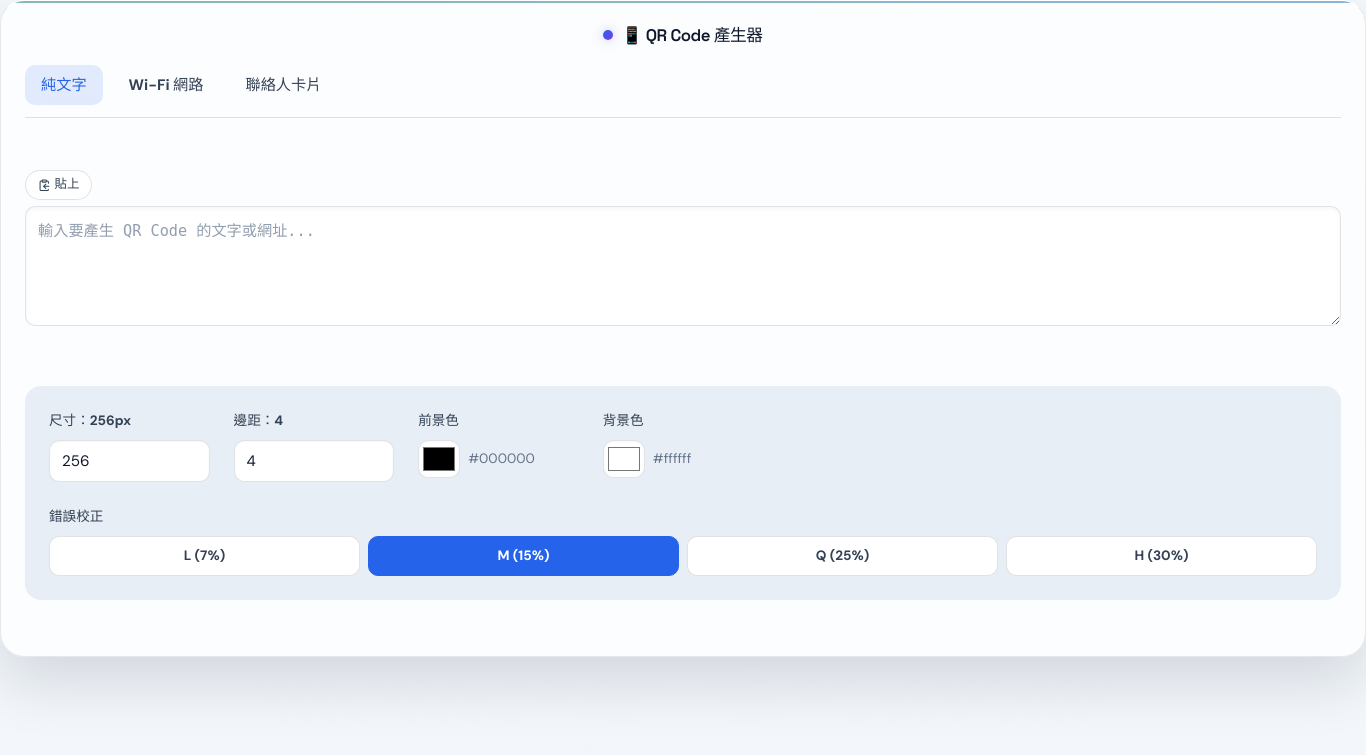
Test: QrCodeGenerator.vue › 輸入與 QR 產生 › 修改顏色應重新產生 QR Code
This screenshot has width=1366, height=755.
In the text box with placeholder "輸入要產生 QR Code 的文字或網址...": (683, 266) left=25, top=206, right=1341, bottom=326, type "color test"
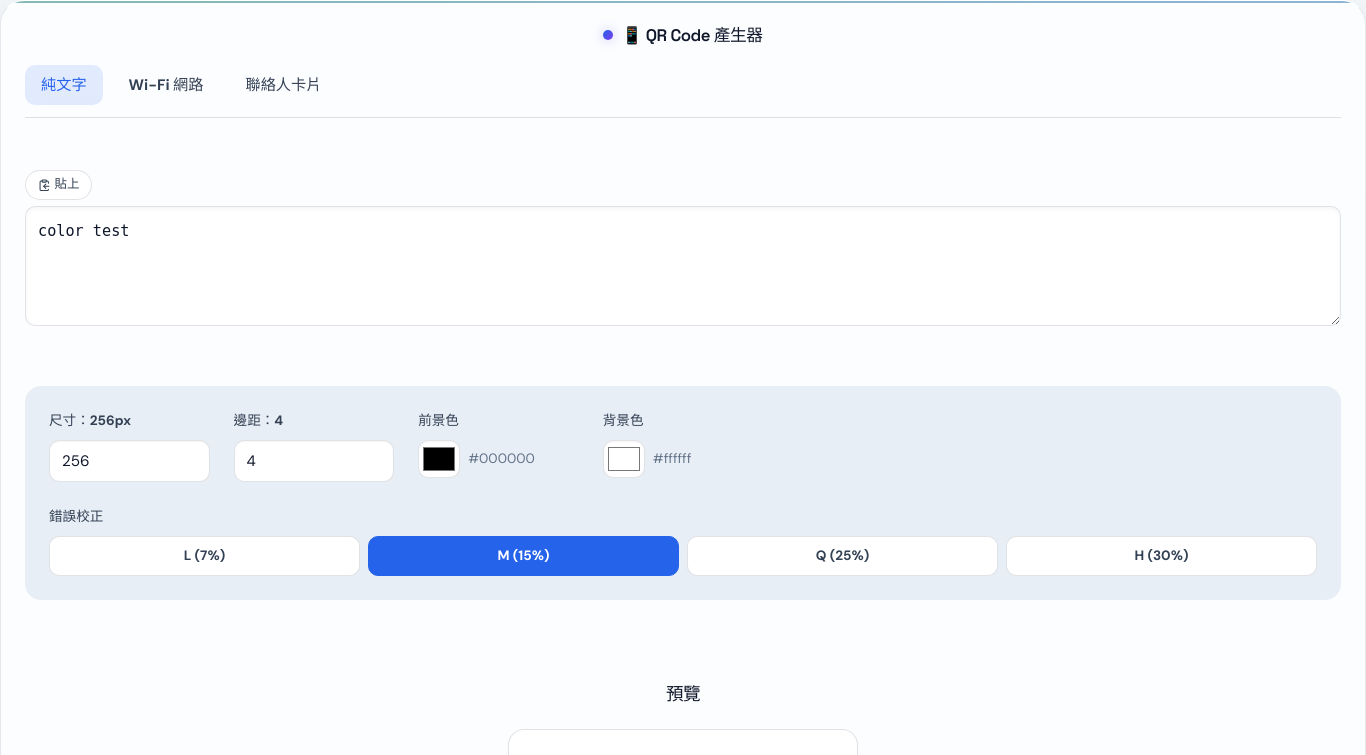
In the colour field labelled "前景色": (439, 459) left=418, top=440, right=460, bottom=478, type "#ff0000"
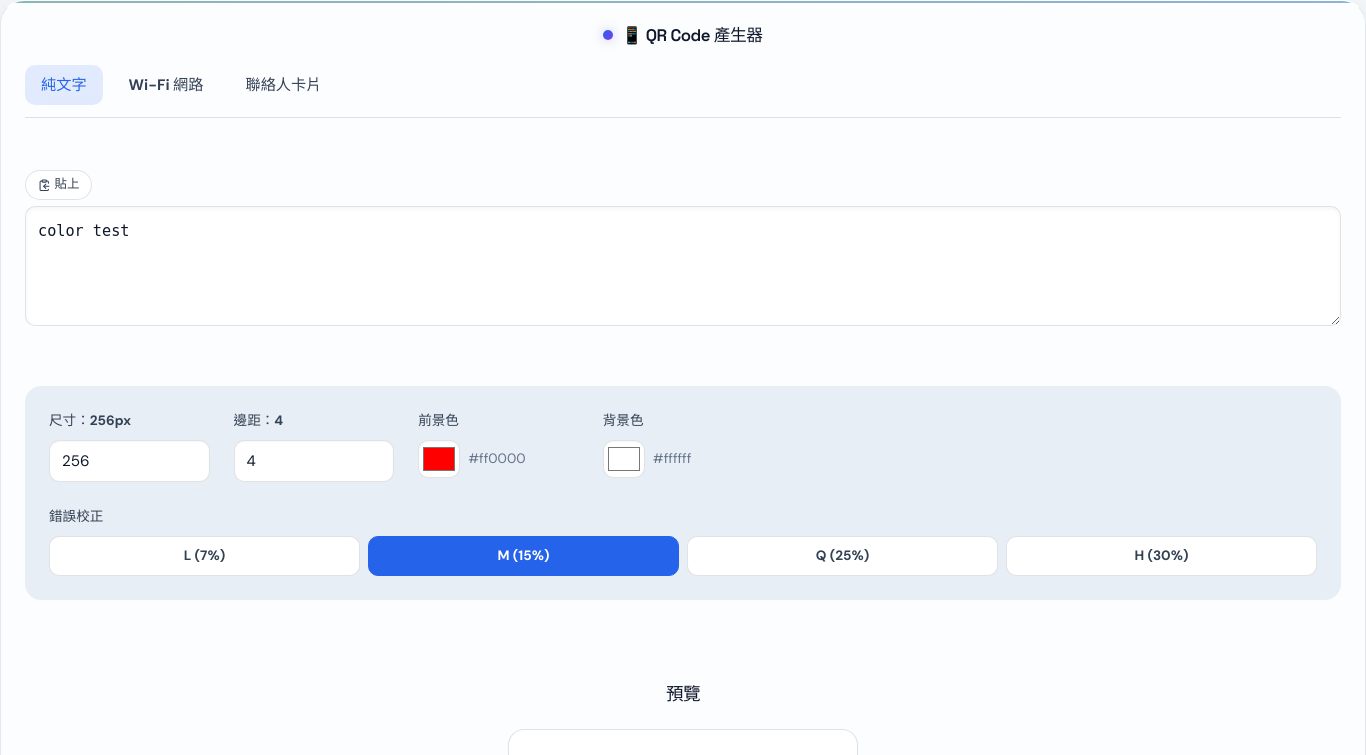
In the colour field labelled "背景色": (624, 459) left=603, top=440, right=645, bottom=478, type "#0000ff"
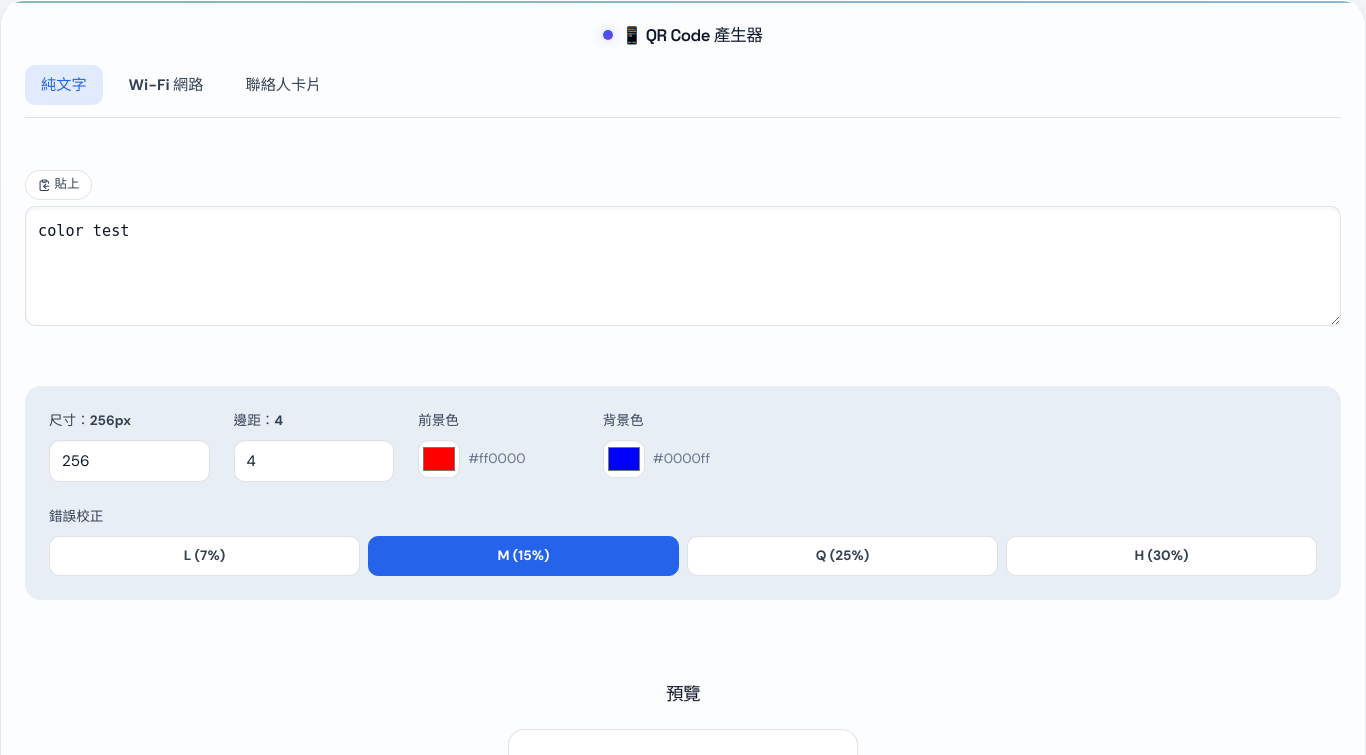
Check: the text "#ff0000" is shown, box left=468, top=448, right=526, bottom=470
Check: the text "#0000ff" is shown, box left=653, top=448, right=710, bottom=470
